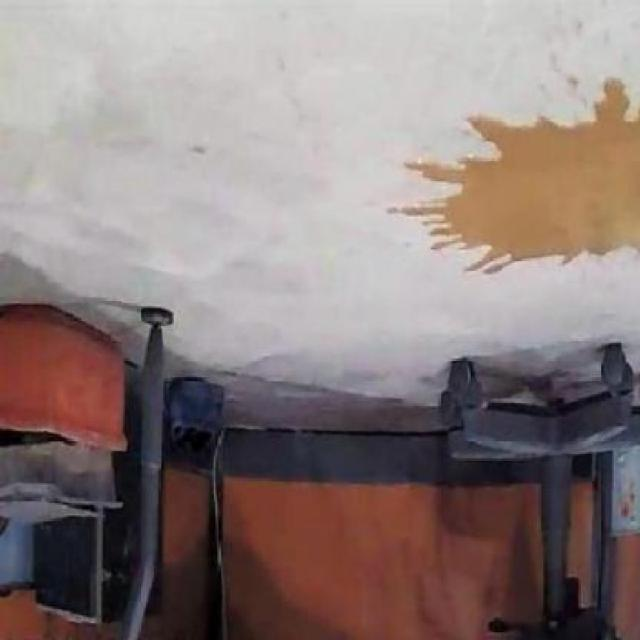spillage: (411, 79, 640, 273)
